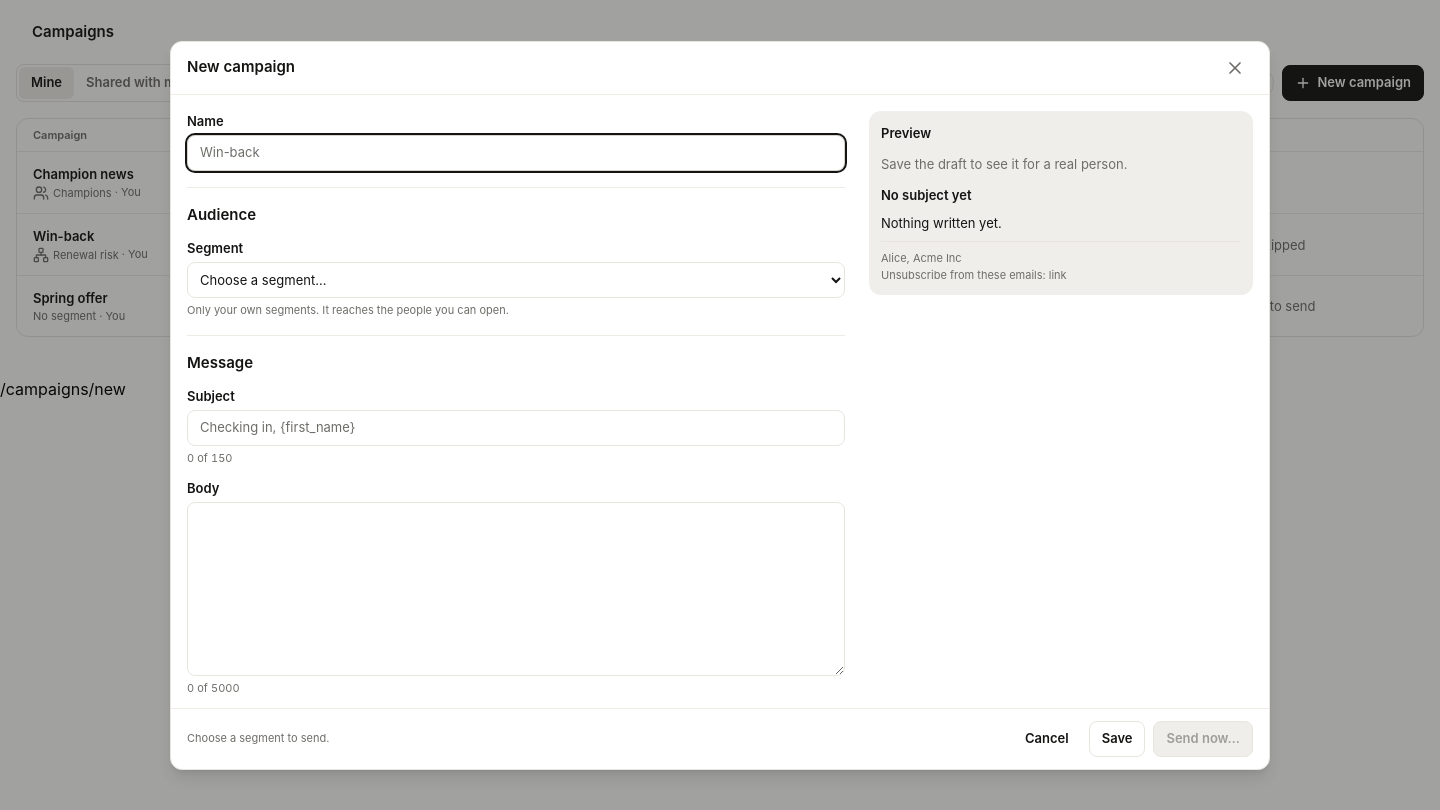
the campaign editor (spec §2.2) › asks whom to email at each organisation, Surveys' roles ticked, and refuses none
Type "Renewals" into the field labelled "Name" at point(516, 152), box [187, 134, 845, 170]
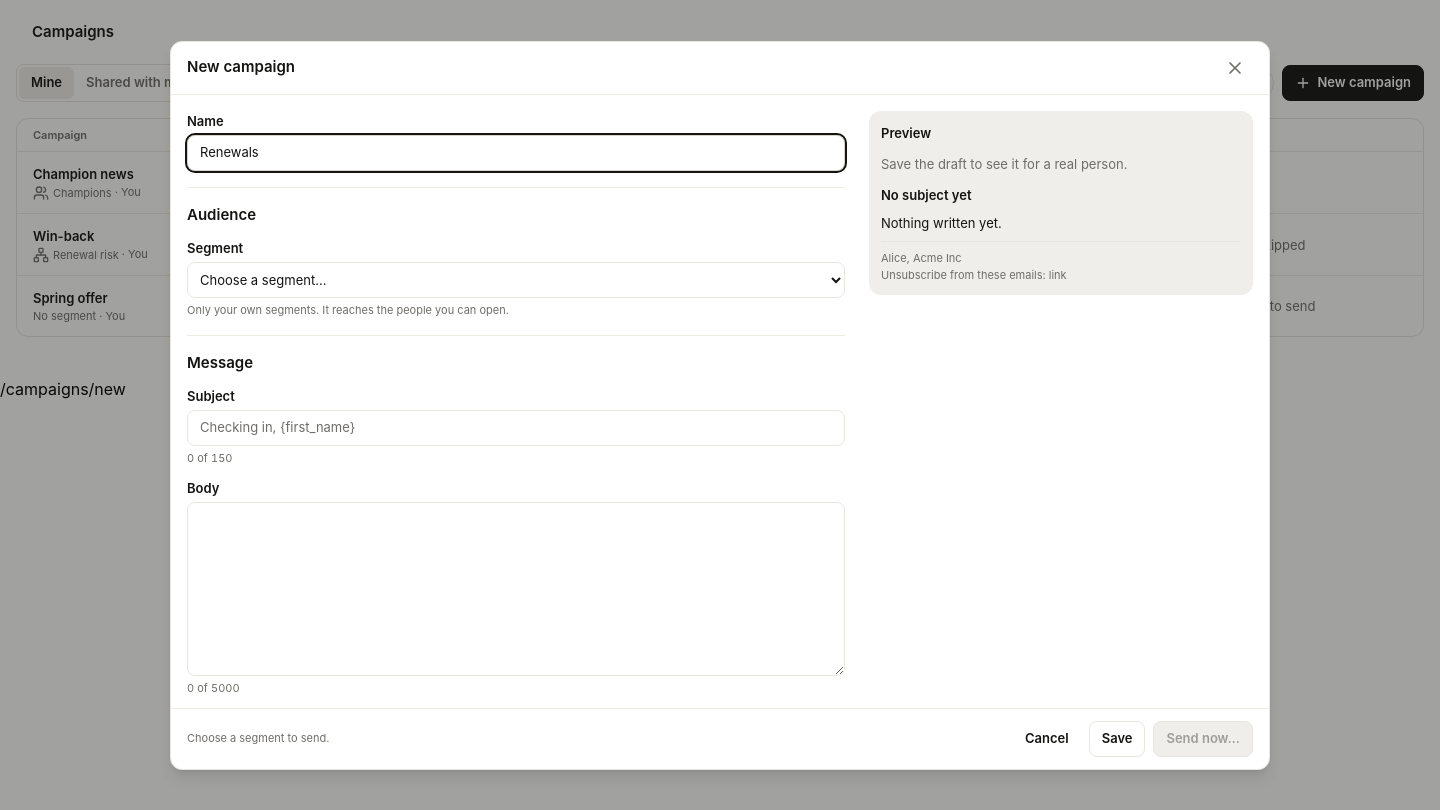
Select "Renewal risk" in the dropdown labelled "Segment" at point(516, 280), box [187, 262, 845, 298]
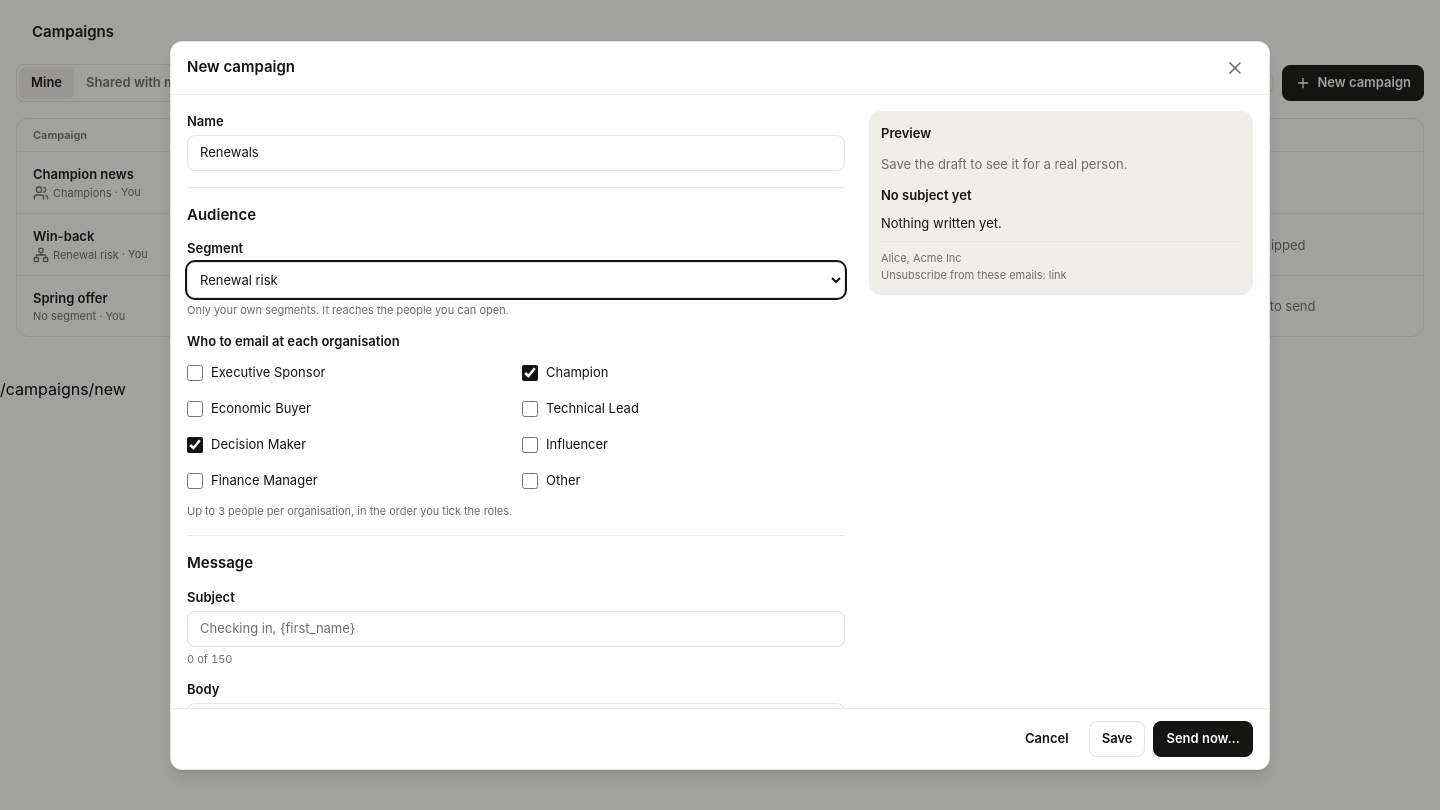
Expected: the checkbox labelled "Champion" is checked
Expected: the checkbox labelled "Decision Maker" is checked, [187, 436, 203, 452]
Click the checkbox labelled "Champion" at point(530, 372), box [522, 364, 538, 380]
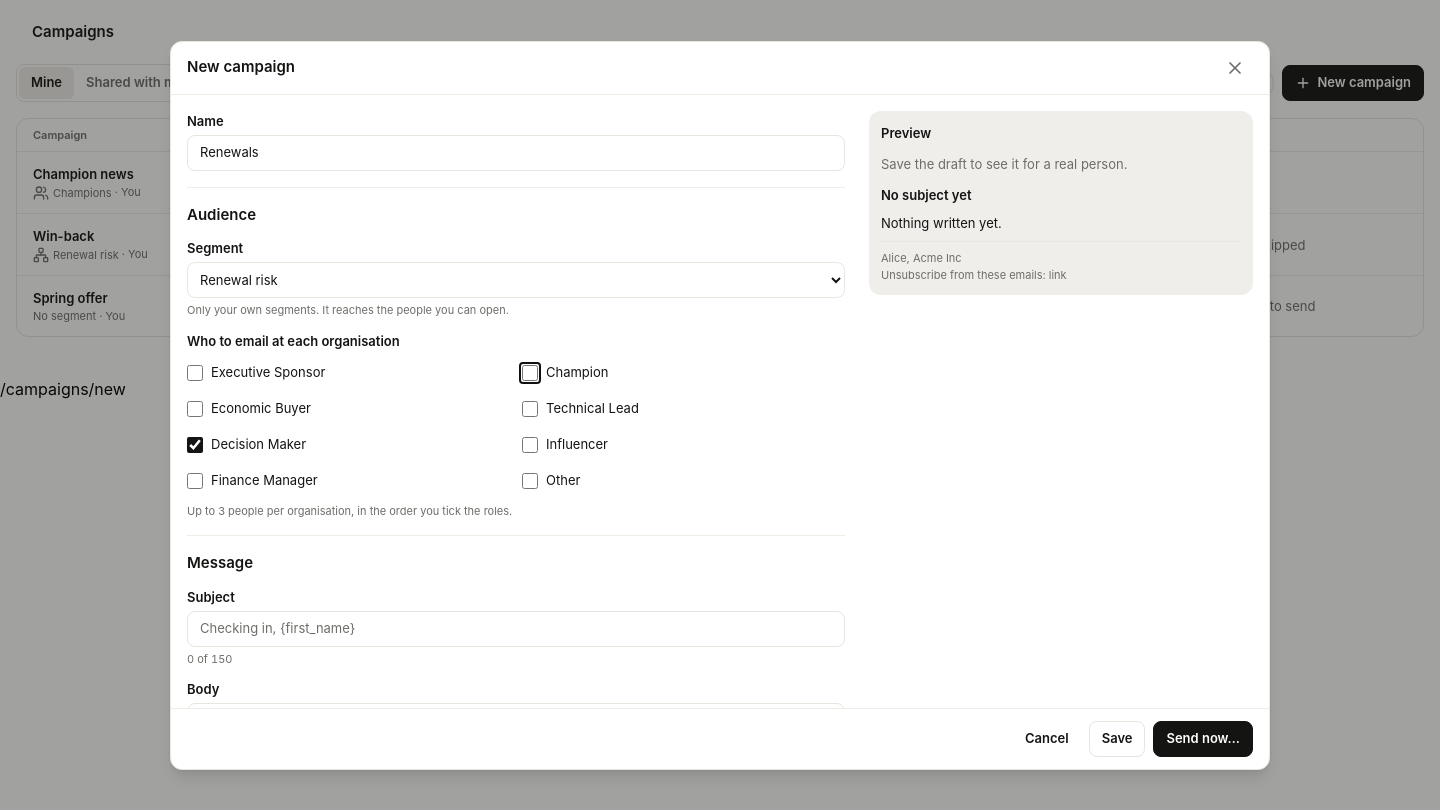
Click the checkbox labelled "Decision Maker" at point(195, 444), box [187, 436, 203, 452]
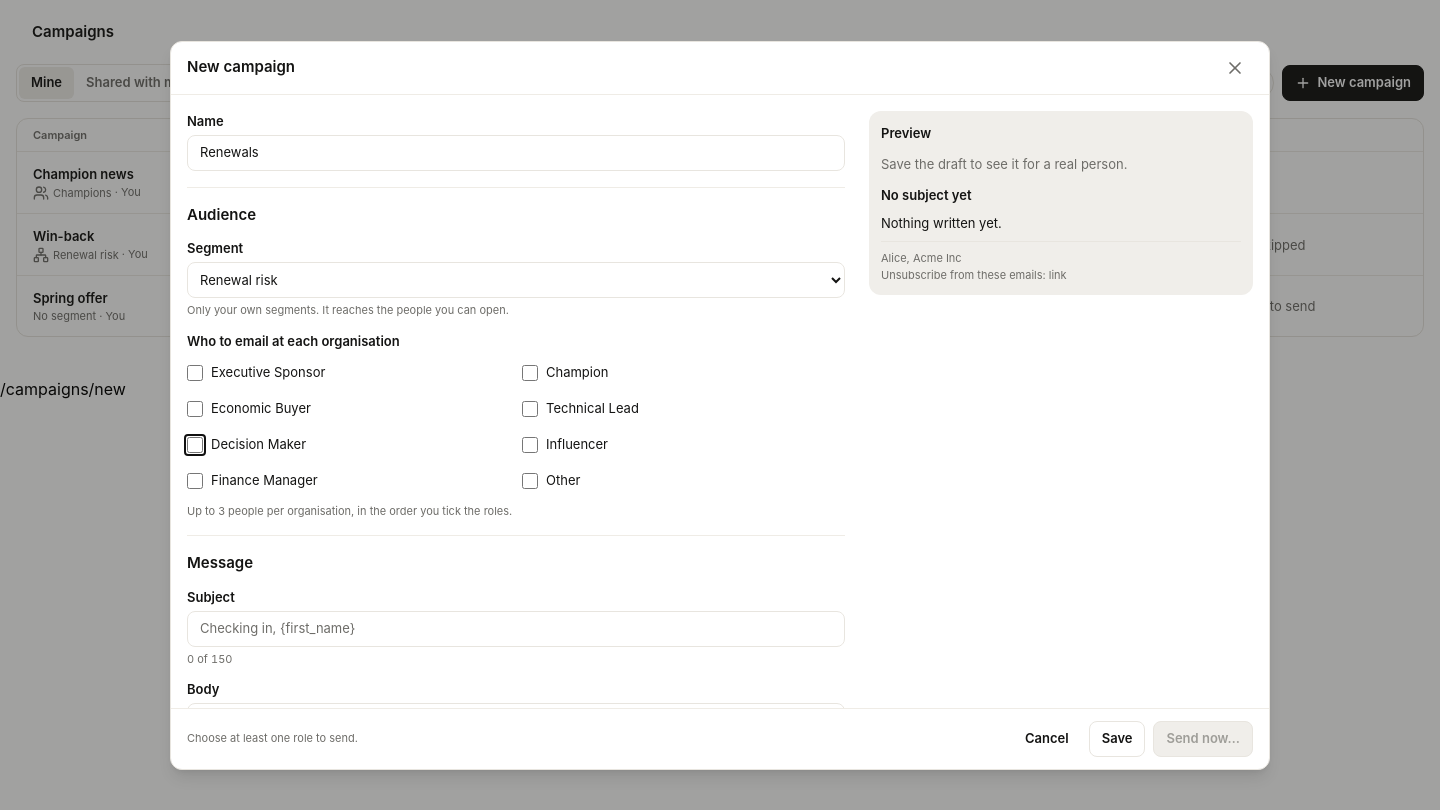
Expected: the button "Send now…" is disabled, [1154, 720, 1253, 756]
Expected: the dialog "New campaign" shows "Choose at least one role to send.", [187, 731, 358, 745]
Click the button "Save" at point(1117, 738), box [1089, 720, 1146, 756]
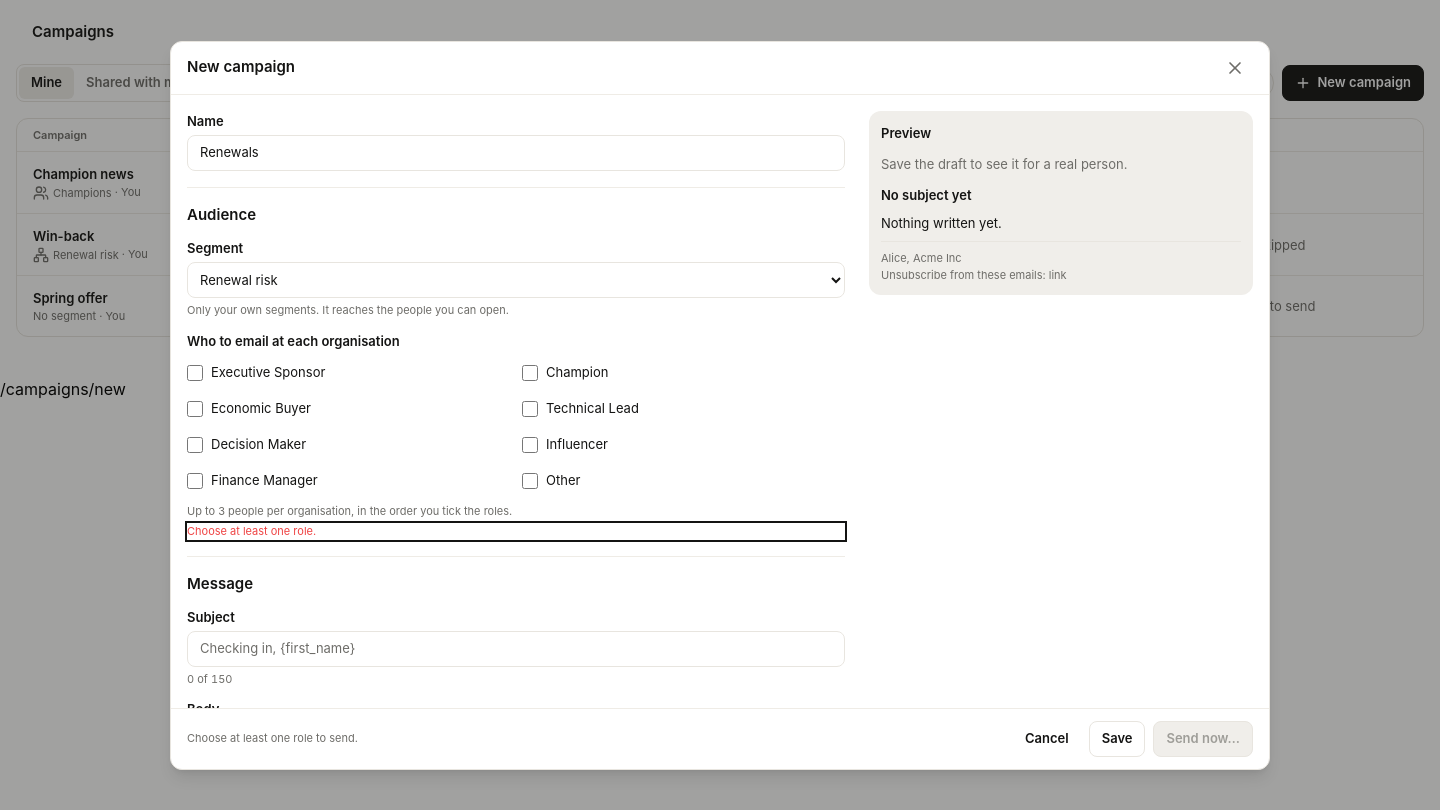
Expected: the message reads "Choose at least one role.", [187, 524, 316, 538]
